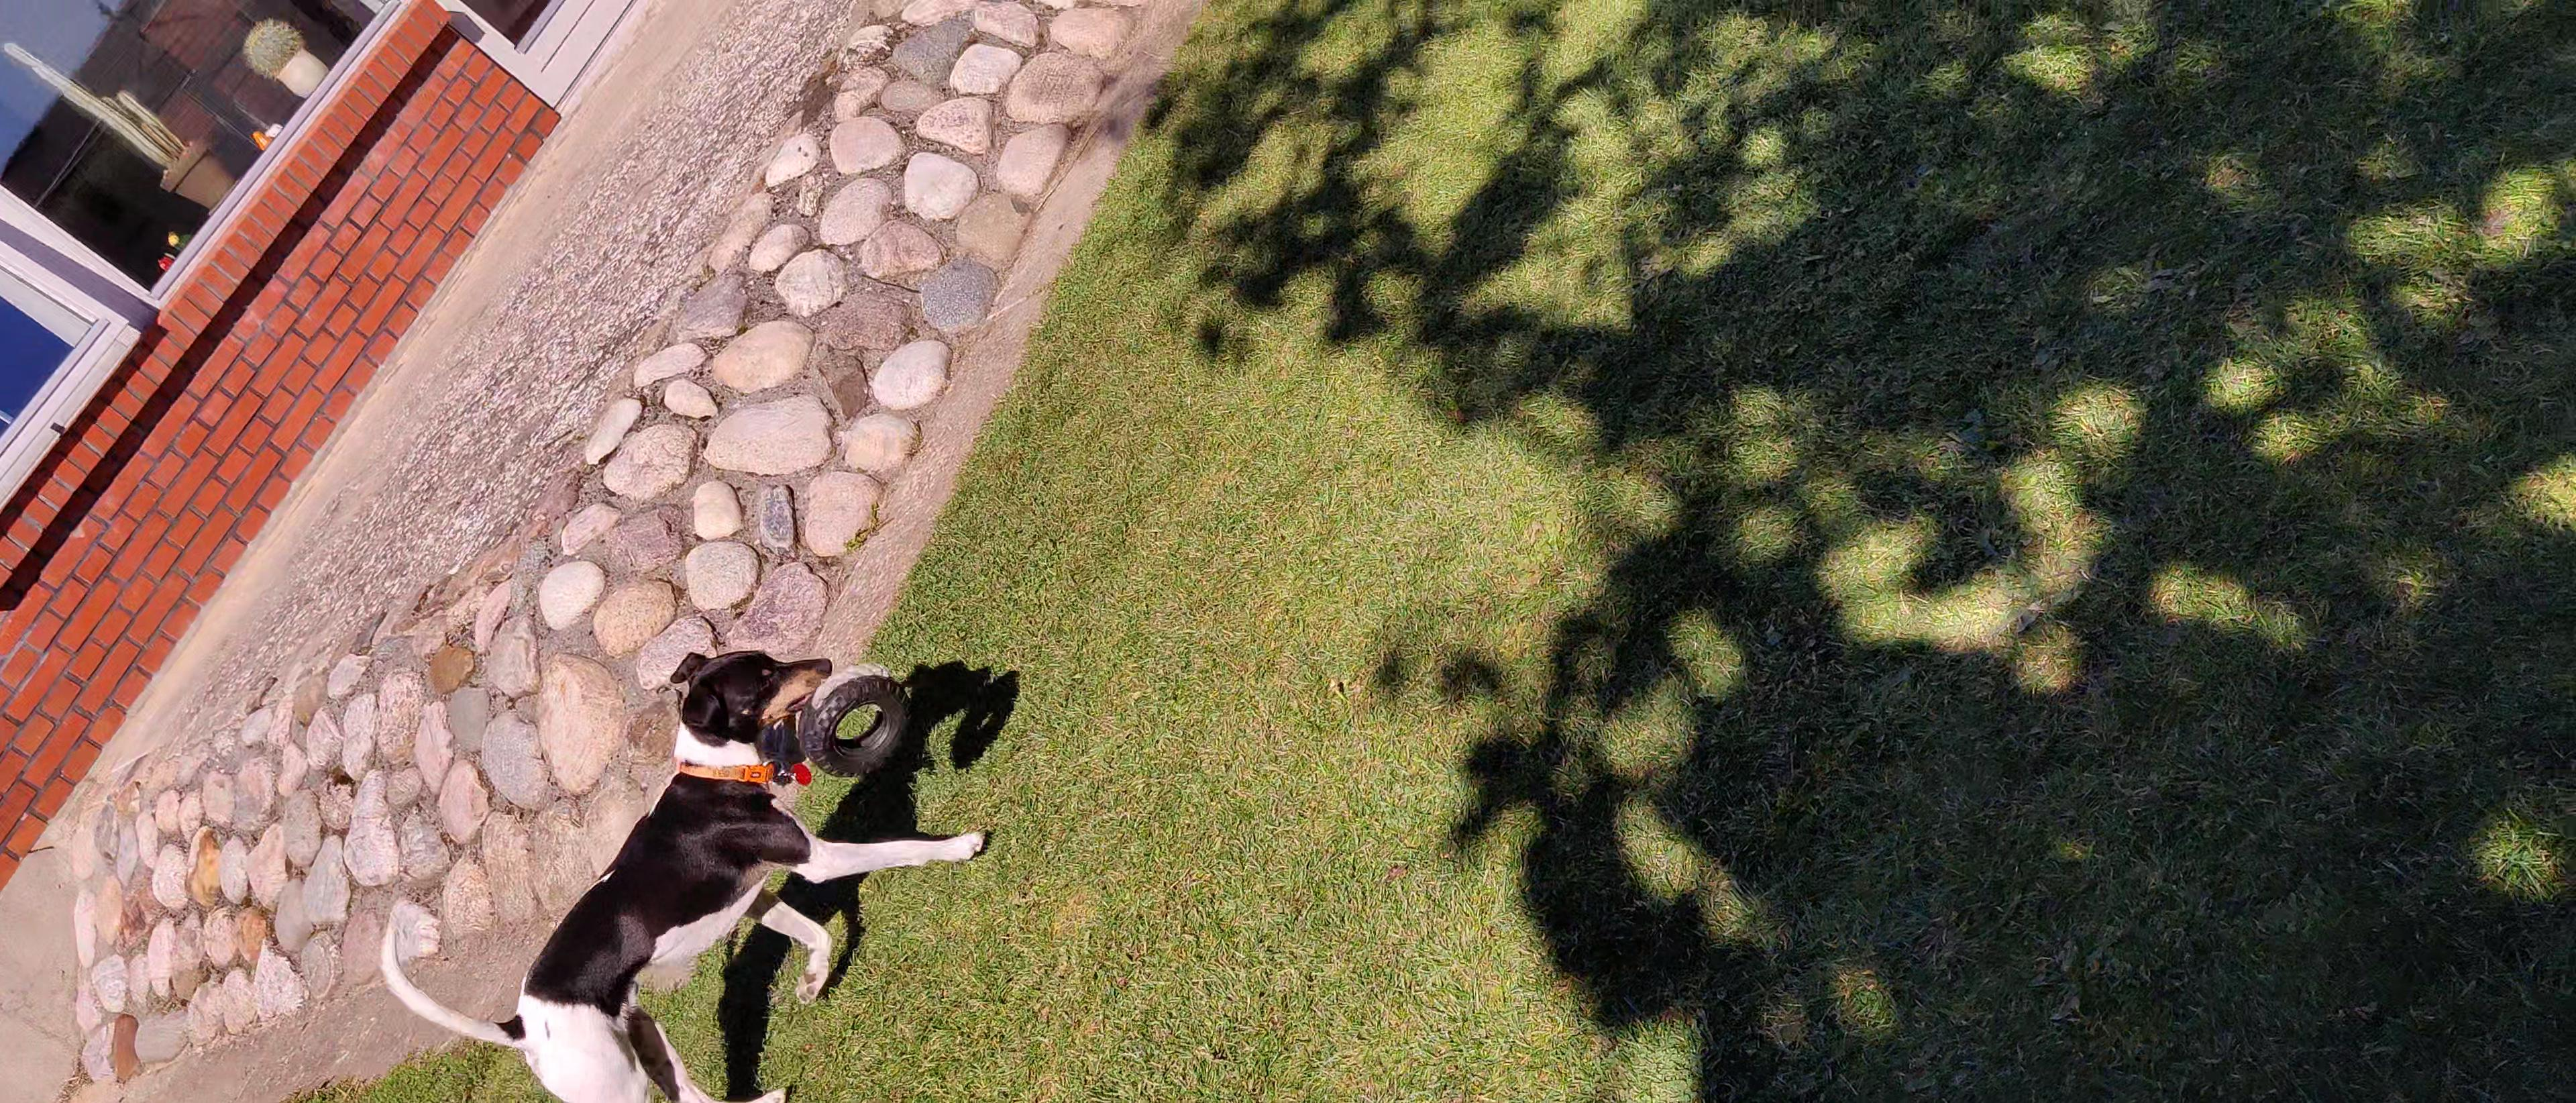Dog: (370, 641, 999, 1103)
